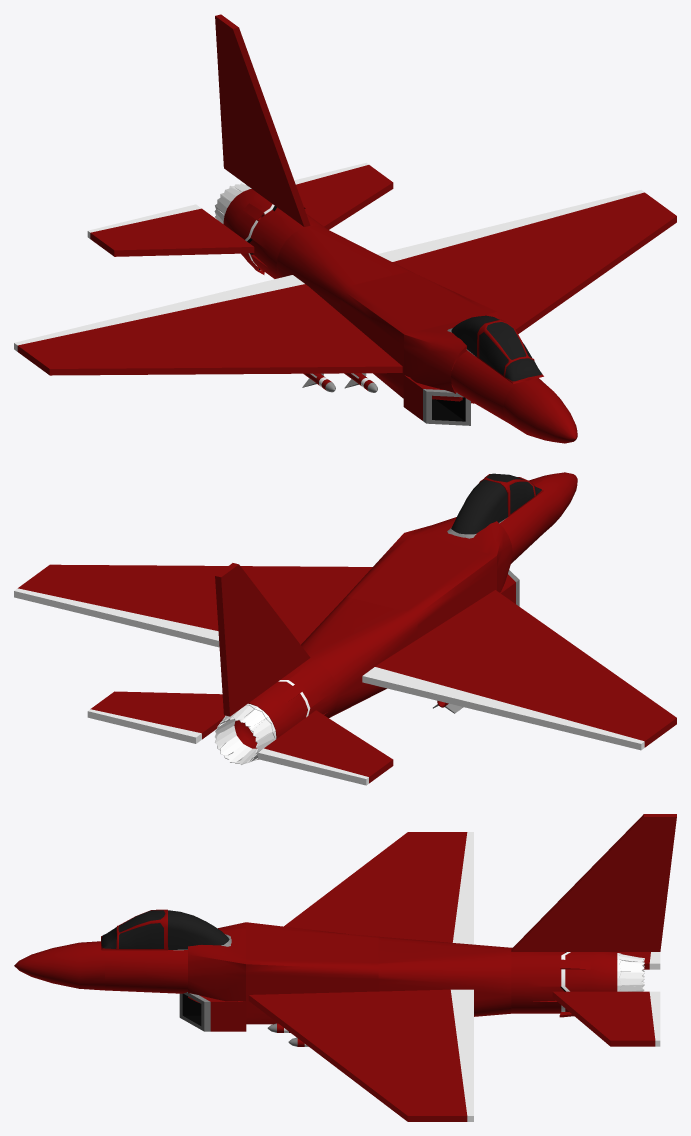
Rendered from Enemy_export.obj.
3 renders of one model, top to bottom at view 1: azimuth 30°, elevation 25°; view 2: azimuth 150°, elevation 25°; view 3: azimuth 270°, elevation 25°, orthographic. The views are drawn at different scales.
Parts seen in each view (by area): view 1: Mesh_36, Mesh_46, Mesh_33, Mesh_3, Mesh_6, Mesh_34, Body_7, Mesh_44, Mesh_2, Mesh_5, Mesh_0, Mesh_1 (+4 smaller); view 2: Mesh_36, Mesh_46, Mesh_3, Mesh_33, Mesh_6, Mesh_34, Control Surface_37, Body_7, Mesh_44, Control Surface_47, Mesh_5, Mesh_38 (+5 smaller); view 3: Mesh_46, Mesh_33, Mesh_36, Mesh_3, Mesh_6, Body_7, Mesh_44, Mesh_5, Mesh_1, Mesh_2, Mesh_0, Mesh_43 (+4 smaller).
Boxes of the visible parts, left/top/right/bottom form: Mesh_36: left=17, top=284, right=402, bottom=375; Mesh_46: left=392, top=192, right=676, bottom=334; Mesh_33: left=215, top=14, right=310, bottom=226; Mesh_3: left=340, top=271, right=496, bottom=398; Mesh_6: left=276, top=225, right=412, bottom=312; Mesh_34: left=90, top=208, right=254, bottom=256; Body_7: left=223, top=189, right=327, bottom=278; Mesh_44: left=296, top=165, right=393, bottom=229; Mesh_2: left=503, top=378, right=577, bottom=443; Mesh_5: left=404, top=312, right=498, bottom=403; Mesh_0: left=477, top=320, right=543, bottom=383; Mesh_1: left=451, top=350, right=542, bottom=423; Mesh_36: left=375, top=590, right=676, bottom=747; Mesh_46: left=18, top=564, right=372, bottom=644; Mesh_3: left=344, top=533, right=496, bottom=638; Mesh_33: left=215, top=563, right=310, bottom=716; Mesh_6: left=301, top=597, right=417, bottom=717; Mesh_34: left=264, top=710, right=393, bottom=783; Control Surface_37: left=362, top=667, right=644, bottom=750; Body_7: left=234, top=658, right=338, bottom=748; Mesh_44: left=90, top=691, right=224, bottom=739; Control Surface_47: left=14, top=588, right=219, bottom=647; Mesh_5: left=404, top=517, right=512, bottom=592; Mesh_38: left=447, top=479, right=508, bottom=538; Mesh_46: left=248, top=989, right=467, bottom=1121; Mesh_33: left=511, top=814, right=676, bottom=951; Mesh_36: left=284, top=832, right=467, bottom=942; Mesh_3: left=246, top=922, right=378, bottom=1024; Mesh_6: left=378, top=936, right=511, bottom=1016; Body_7: left=511, top=947, right=617, bottom=1017; Mesh_44: left=552, top=991, right=655, bottom=1046; Mesh_5: left=188, top=922, right=245, bottom=1002; Mesh_1: left=105, top=950, right=187, bottom=993; Mesh_2: left=14, top=941, right=104, bottom=990; Mesh_0: left=101, top=909, right=167, bottom=950; Mesh_43: left=179, top=992, right=246, bottom=1031.
Bounding box in the file's own units: 10.13 × 3.25 × 10.
Materials: 1 (1 with a texture image).
